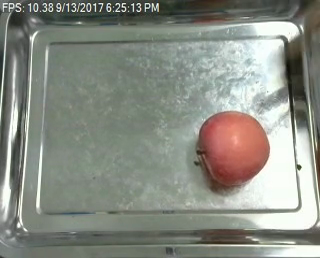Apple: (196, 109, 270, 189)
